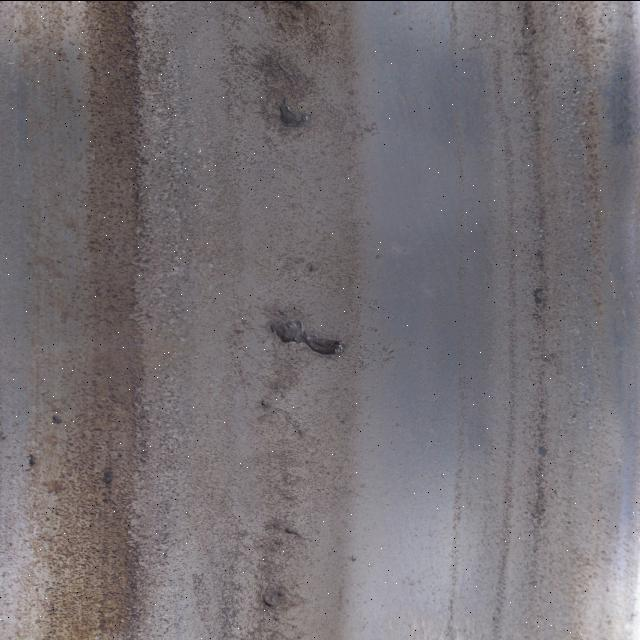boli: (245, 304, 361, 368), (272, 90, 314, 134), (259, 572, 297, 616)
